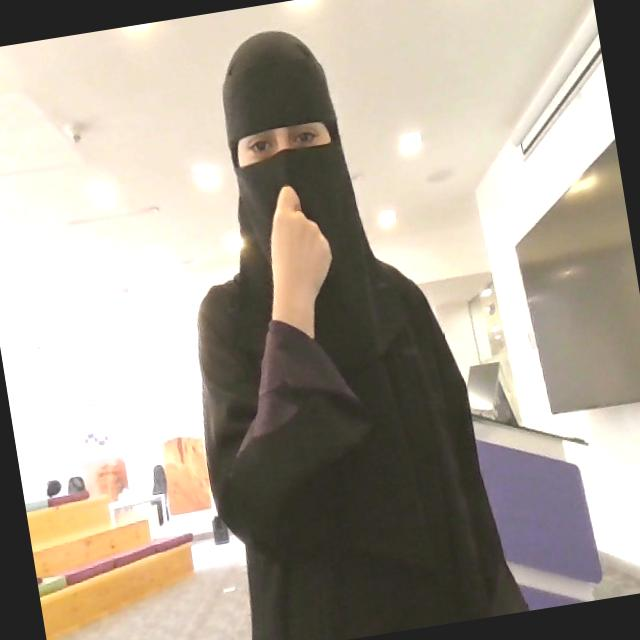medicine: (251, 178, 345, 343)
